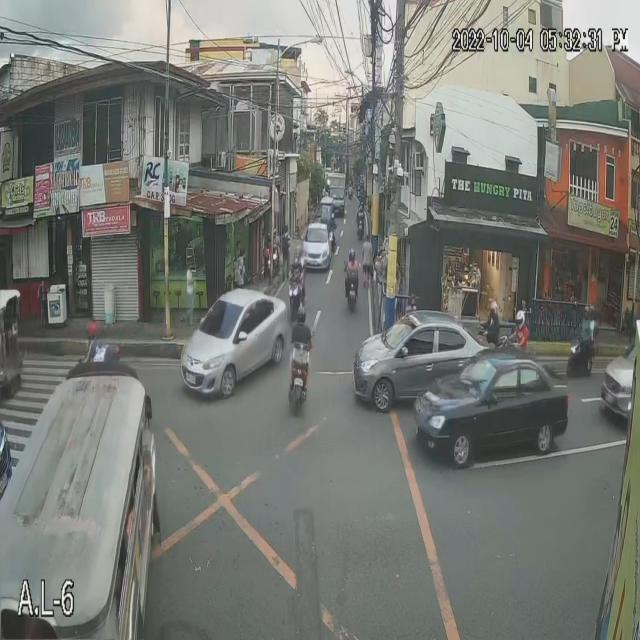Full-Faced: (79, 319, 98, 340), (510, 310, 529, 329), (292, 302, 306, 323), (581, 303, 593, 322), (346, 246, 356, 264)
